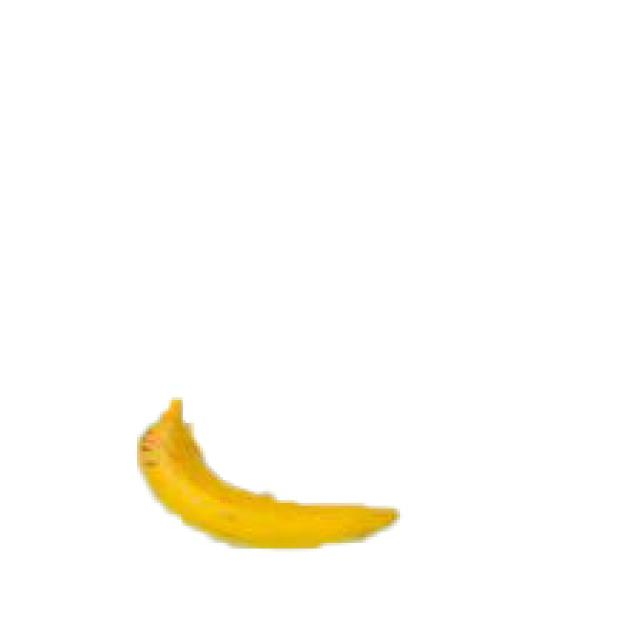fresh-banana: (134, 394, 397, 549)
